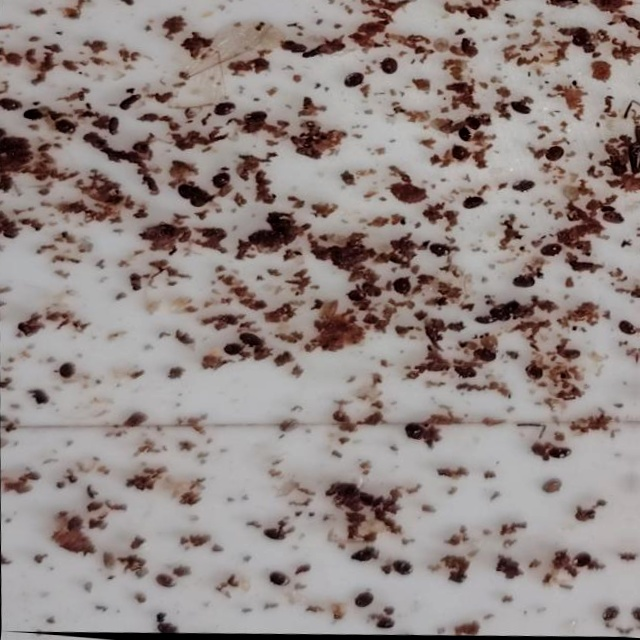varroa: (398, 424, 423, 447), (234, 332, 265, 350), (344, 550, 372, 568), (187, 194, 213, 212), (53, 361, 75, 382), (172, 185, 199, 202), (385, 562, 409, 581), (459, 198, 484, 216), (447, 366, 473, 383), (378, 59, 399, 80), (346, 593, 368, 613), (388, 280, 410, 300), (552, 351, 581, 366), (20, 108, 49, 123), (148, 573, 172, 591), (508, 279, 535, 295), (446, 148, 470, 166), (341, 74, 365, 92), (507, 104, 532, 121), (212, 102, 237, 119), (51, 119, 76, 136), (356, 285, 379, 303), (500, 304, 523, 322), (209, 173, 232, 191), (519, 368, 540, 387), (263, 573, 285, 591), (470, 351, 493, 368), (508, 183, 534, 198), (543, 150, 564, 168), (242, 112, 267, 127), (487, 310, 509, 327), (537, 247, 560, 263), (217, 343, 243, 357), (259, 530, 283, 545), (566, 555, 586, 573), (426, 246, 450, 261), (345, 290, 366, 307), (613, 325, 635, 341), (594, 610, 614, 627), (545, 449, 565, 465), (467, 11, 489, 25), (462, 119, 480, 136), (148, 623, 173, 635), (456, 131, 473, 147), (370, 619, 389, 632), (630, 355, 636, 377)
